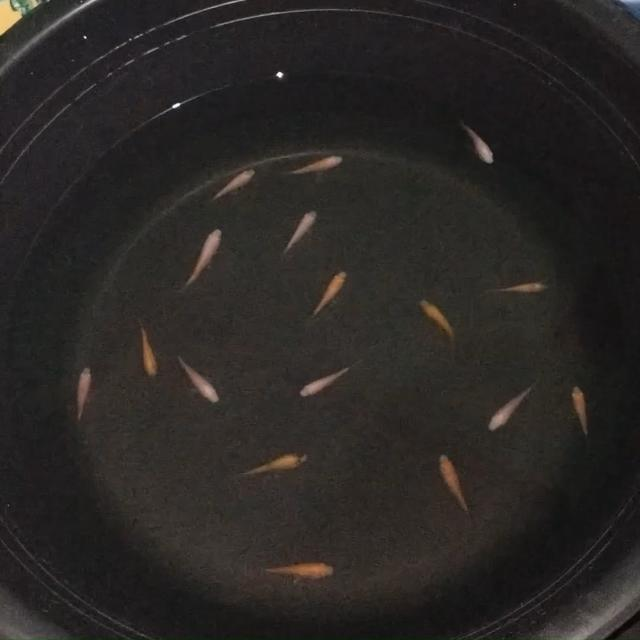nila: (168, 225, 223, 298), (484, 376, 541, 434), (296, 266, 349, 326), (435, 450, 474, 518), (245, 558, 338, 586), (298, 358, 362, 398), (198, 167, 256, 210), (177, 352, 223, 406), (417, 294, 457, 356), (234, 450, 310, 480), (278, 204, 318, 256), (566, 380, 594, 446), (456, 119, 496, 165), (280, 153, 345, 179), (70, 362, 94, 430), (483, 278, 553, 298), (138, 322, 160, 383)
